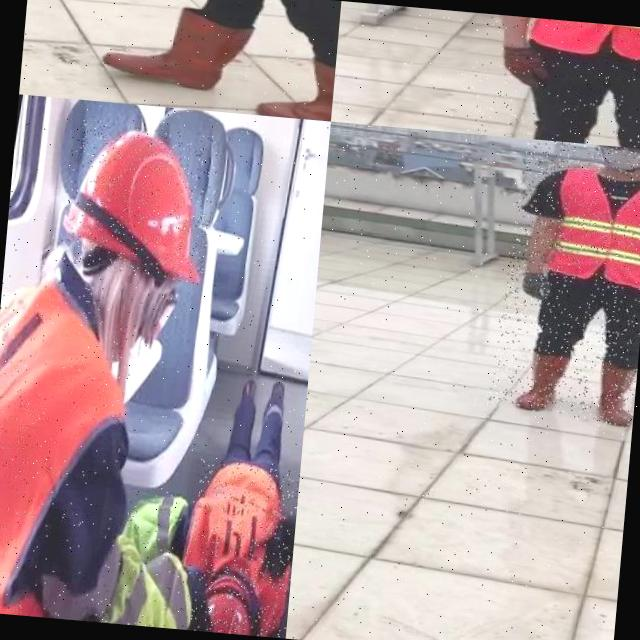boots: (96, 0, 254, 97), (256, 45, 336, 121), (516, 346, 570, 416), (590, 360, 638, 428)
helmet: (56, 115, 224, 285), (192, 566, 260, 636)
vest: (0, 271, 145, 623), (172, 455, 300, 638), (38, 533, 201, 630), (546, 161, 640, 289), (120, 484, 186, 558)
